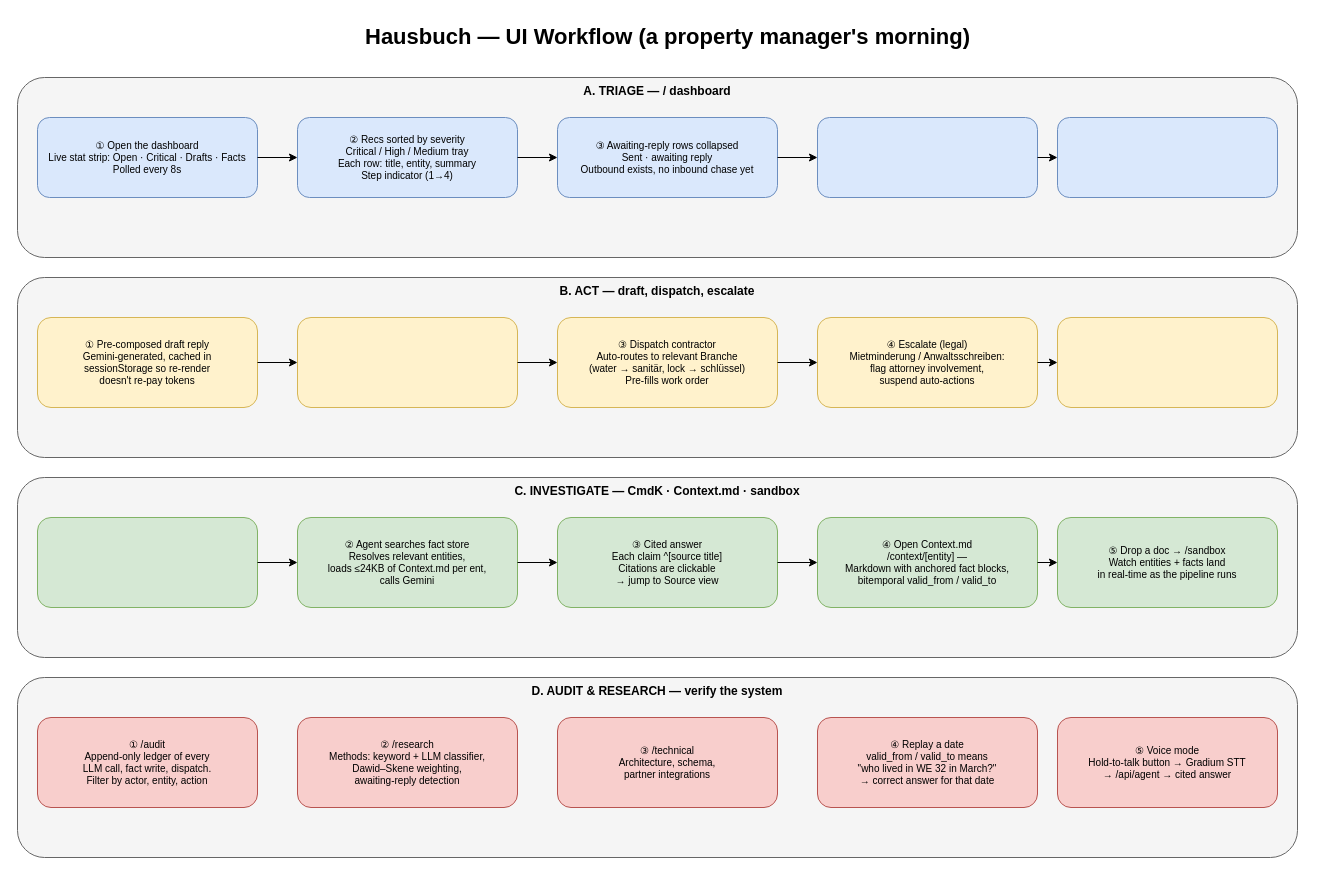
This 1335x875 diagram has some shape labels left out. Here are the shapes that lost their labels. From the top down, the centre of each, then its label:
At (927,157): "④ Click a row → expand See: facts cited, email chain, suggested actions".
At (1167,157): "⑤ Resolve & move on Close → fact appended, rec disappears on next poll".
At (407,362): "② Edit before send Inline edit field — language pinned to tenant's Sprache".
At (1167,362): "⑤ All actions logged /audit shows actor, action, entity, ts, latency, tokens".
At (147,562): "① ⌘K opens agent palette Type a question Recent 3 queries shown and re-clickable".
